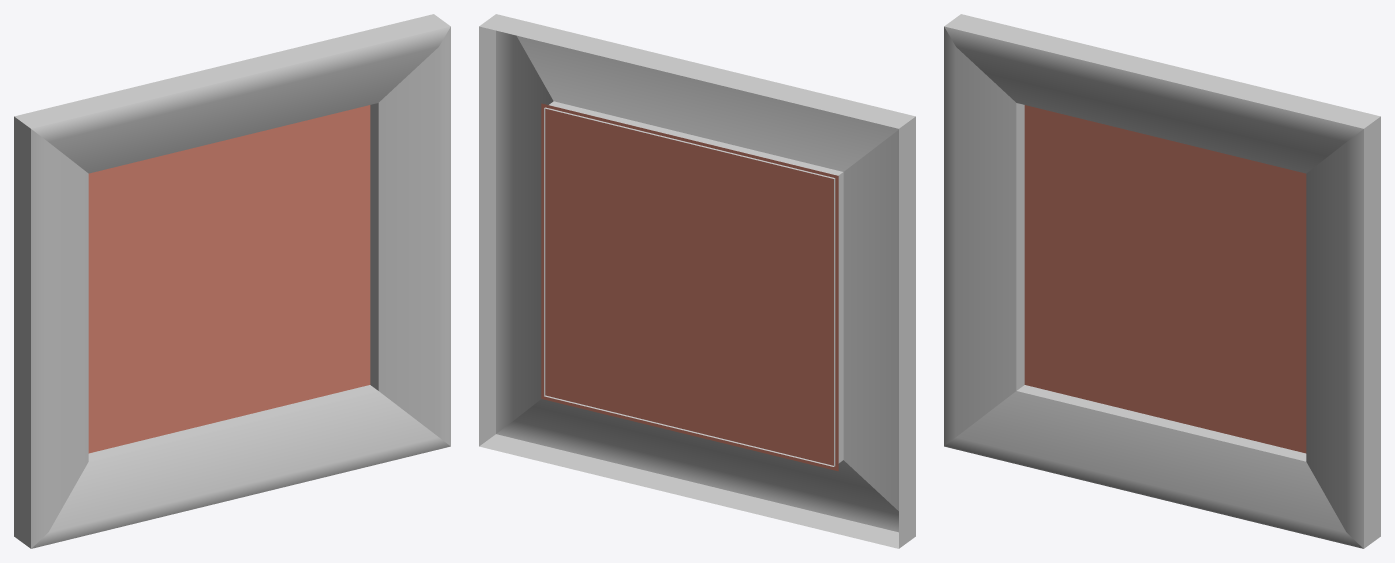
The model's file is SM_Props_Decor_13.fbx.
3 views of the same model, side by side, from view 1: azimuth 30°, elevation 25°; view 2: azimuth 150°, elevation 25°; view 3: azimuth 330°, elevation 25° (orthographic).
Parts seen in each view (by area): view 1: SM_Props_Decor_13; view 2: SM_Props_Decor_13; view 3: SM_Props_Decor_13.
Part boxes in pixels (<box>): SM_Props_Decor_13: <box>14,14,450,548</box>; SM_Props_Decor_13: <box>479,14,915,548</box>; SM_Props_Decor_13: <box>944,14,1380,548</box>.
Bounding box in the file's own units: 121 × 116 × 9.84.
